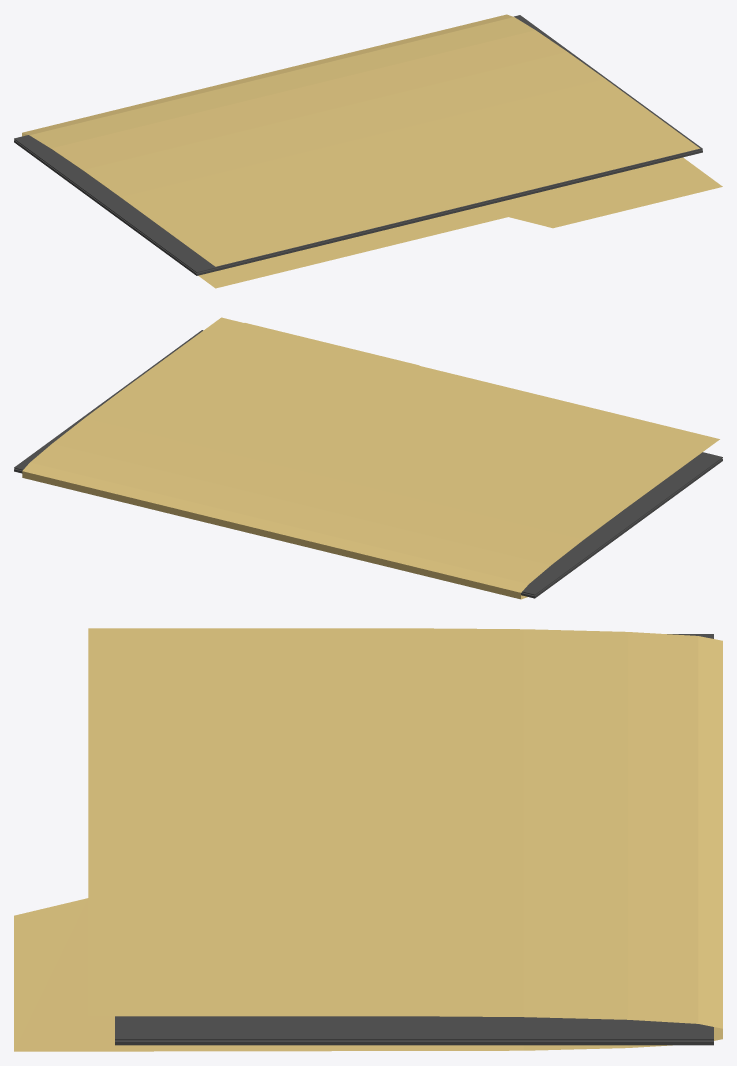
The model's file is Carpeta.fbx.
3 renders of one model, top to bottom at view 1: azimuth 30°, elevation 25°; view 2: azimuth 150°, elevation 25°; view 3: azimuth 270°, elevation 25°, orthographic. The views are drawn at different scales.
Parts seen in each view (by area): view 1: Carpeta; view 2: Carpeta; view 3: Carpeta.
Boxes of the visible parts, left/top/right/bottom form: Carpeta: left=14, top=14, right=722, bottom=288; Carpeta: left=14, top=317, right=722, bottom=599; Carpeta: left=14, top=628, right=722, bottom=1051.
Size of the model in its own units: 67.88 by 2.79 by 50.22.
